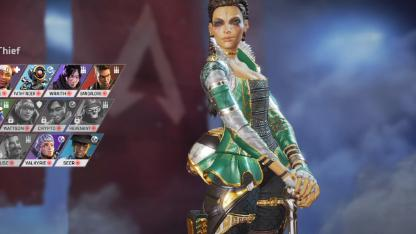Target: (187, 0, 302, 233)
